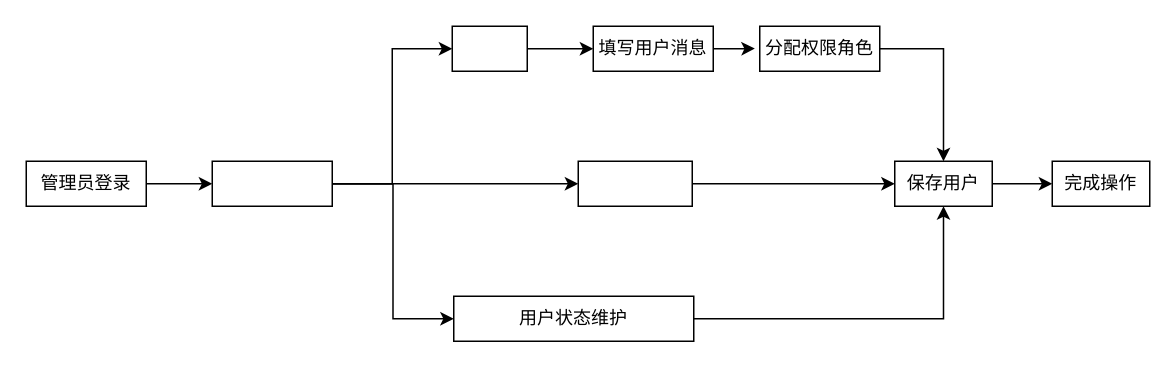
The diagram is 1176 pixels wide and 368 high, and some of its shapes have lost their labels. Each missing label, with the centre of its shape:
导入用户数据: the point at 634,183
添加用户: the point at 489,48
用户管理: the point at 271,183
